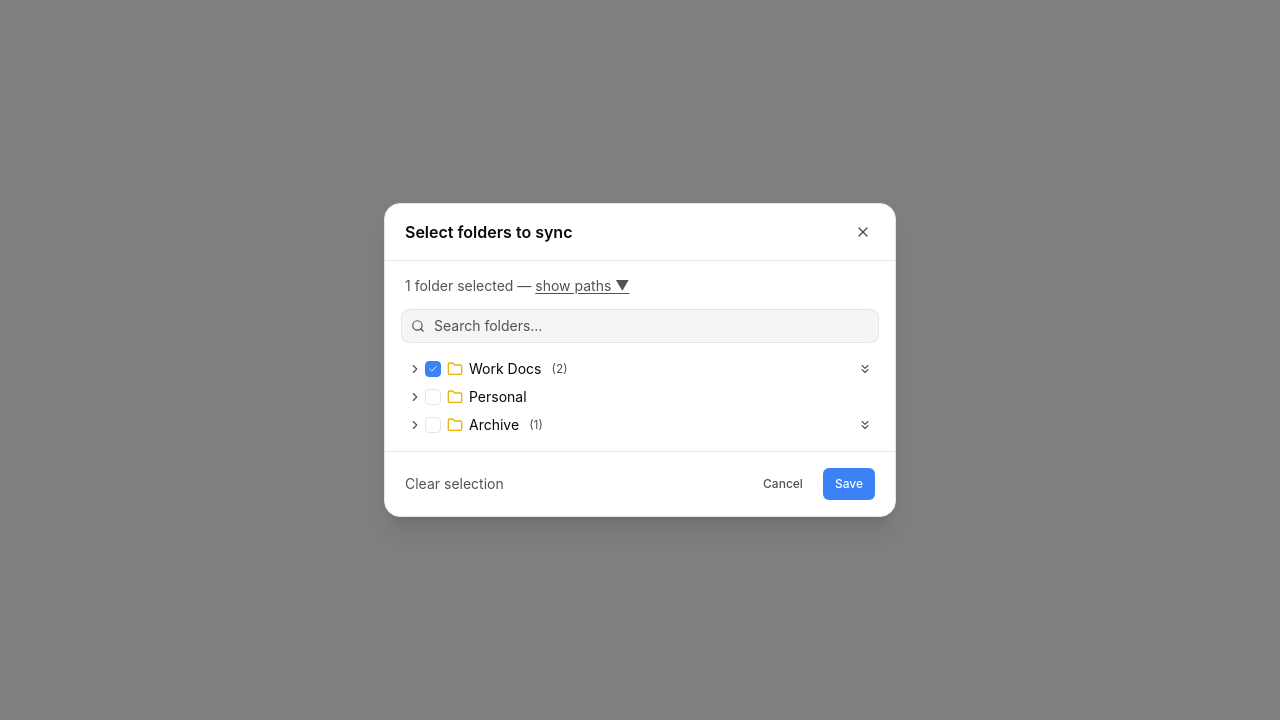
Test case: FolderPickerModal › selected folder summary expands to show full paths on click
Expected: the text "Work Docs" is shown, [469,359,542,379]
Click the button with aria-label "Show selected folder paths". click: x=517, y=286
box: [405,276,629,296]
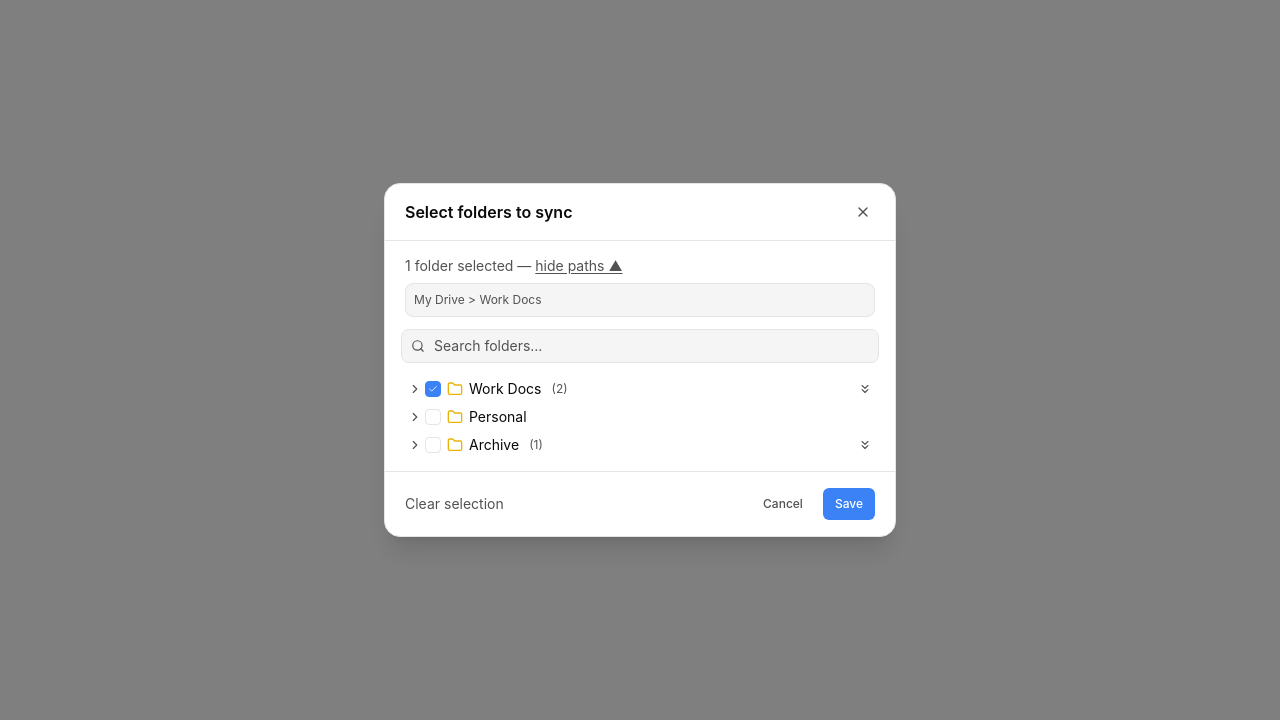
Result: the list item "My Drive > Work Docs" is shown at [414,292,542,307]
